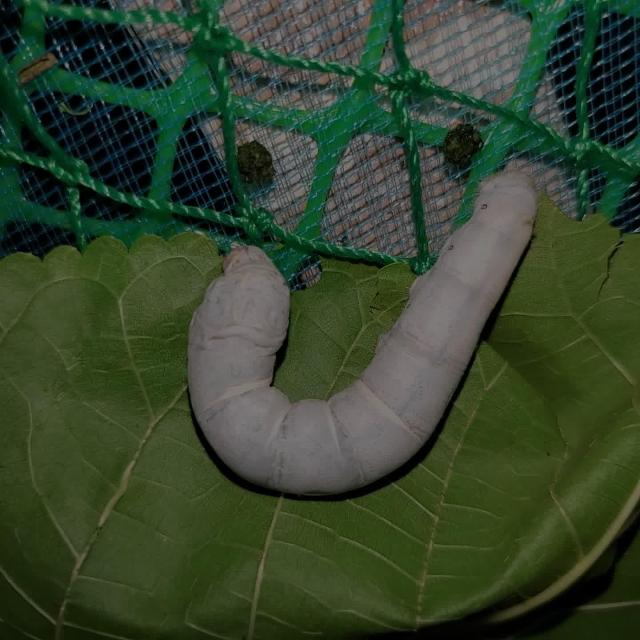Healthy: (174, 159, 546, 507)
